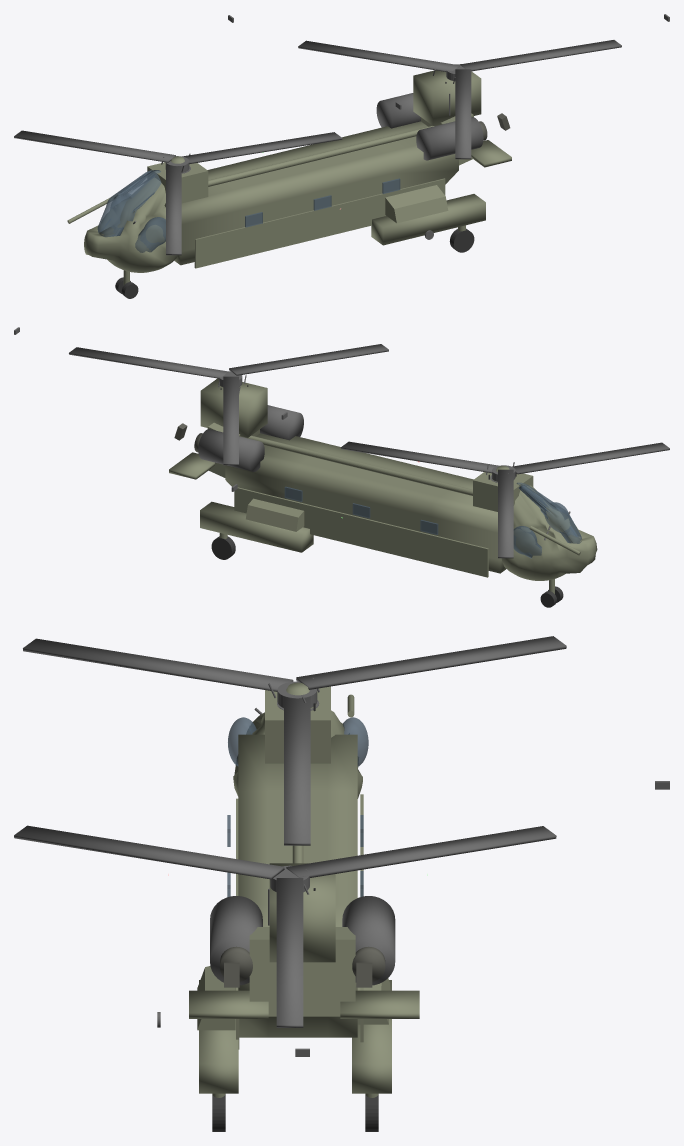
The model's file is ch47_chinook.glb.
The picture shows the model from 3 angles, top to bottom: view 1: azimuth 30°, elevation 25°; view 2: azimuth 150°, elevation 25°; view 3: azimuth 270°, elevation 25°; orthographic projection. The views are drawn at different scales.
Parts seen in each view (by area): view 1: Fuselage, Cargo_Door_L, Cockpit_Nose, Left_Sponson, Rear_Pylon, Chin_Bubble_L.001, Aux_Fuel_Tank_L, Engine_L, Rear_Rotor_Blade_3, Driveshaft_Fairing, Front_Rotor_Blade_2, Rear_Rotor_Blade_2 (+8 smaller); view 2: Fuselage, Cargo_Door_R, Cockpit_Nose, Right_Sponson, Rear_Pylon, Engine_R, Driveshaft_Fairing, Rear_Rotor_Blade_3, Rear_Rotor_Blade_1, Front_Rotor_Blade_2, Rear_Rotor_Blade_2, Front_Rotor_Blade_3 (+8 smaller); view 3: Fuselage, Cargo_Ramp, Rear_Rotor_Blade_1, Rear_Rotor_Blade_3, Front_Rotor_Blade_2, Front_Rotor_Blade_1, Rear_Rotor_Blade_2, Front_Rotor_Blade_3, Rear_Pylon, Right_Sponson, Engine_R, Front_Pylon (+6 smaller).
Part boxes in pixels (x1,y1,x2,y2): Fuselage: (174, 121, 458, 265); Cargo_Door_L: (194, 178, 445, 268); Cockpit_Nose: (84, 177, 177, 272); Left_Sponson: (371, 194, 485, 245); Rear_Pylon: (413, 64, 481, 125); Chin_Bubble_L.001: (97, 170, 161, 237); Aux_Fuel_Tank_L: (385, 185, 448, 223); Engine_L: (416, 117, 483, 160); Rear_Rotor_Blade_3: (455, 69, 471, 159); Driveshaft_Fairing: (208, 126, 434, 186); Front_Rotor_Blade_2: (14, 130, 175, 162); Rear_Rotor_Blade_2: (298, 40, 459, 71); Fuselage: (225, 433, 506, 573); Cargo_Door_R: (234, 487, 488, 577); Cockpit_Nose: (501, 485, 597, 580); Right_Sponson: (200, 501, 313, 552); Rear_Pylon: (200, 378, 267, 437); Engine_R: (198, 429, 264, 471); Driveshaft_Fairing: (248, 435, 472, 495); Rear_Rotor_Blade_3: (229, 344, 388, 375); Rear_Rotor_Blade_1: (69, 347, 228, 378); Front_Rotor_Blade_2: (498, 469, 513, 558); Rear_Rotor_Blade_2: (223, 376, 238, 465); Front_Rotor_Blade_3: (512, 442, 669, 474); Fuselage: (238, 734, 357, 1037); Cargo_Ramp: (249, 927, 355, 1016); Rear_Rotor_Blade_1: (276, 878, 303, 1027); Rear_Rotor_Blade_3: (14, 825, 284, 879); Front_Rotor_Blade_2: (296, 636, 566, 689); Front_Rotor_Blade_1: (284, 696, 310, 845); Rear_Rotor_Blade_2: (286, 826, 556, 877); Front_Rotor_Blade_3: (23, 638, 293, 691); Rear_Pylon: (269, 863, 335, 962); Right_Sponson: (352, 980, 391, 1093); Engine_R: (342, 896, 395, 985); Front_Pylon: (265, 686, 330, 763).
Size of what is drawn, in the model's own units: 17.04 by 4.56 by 9.91.
